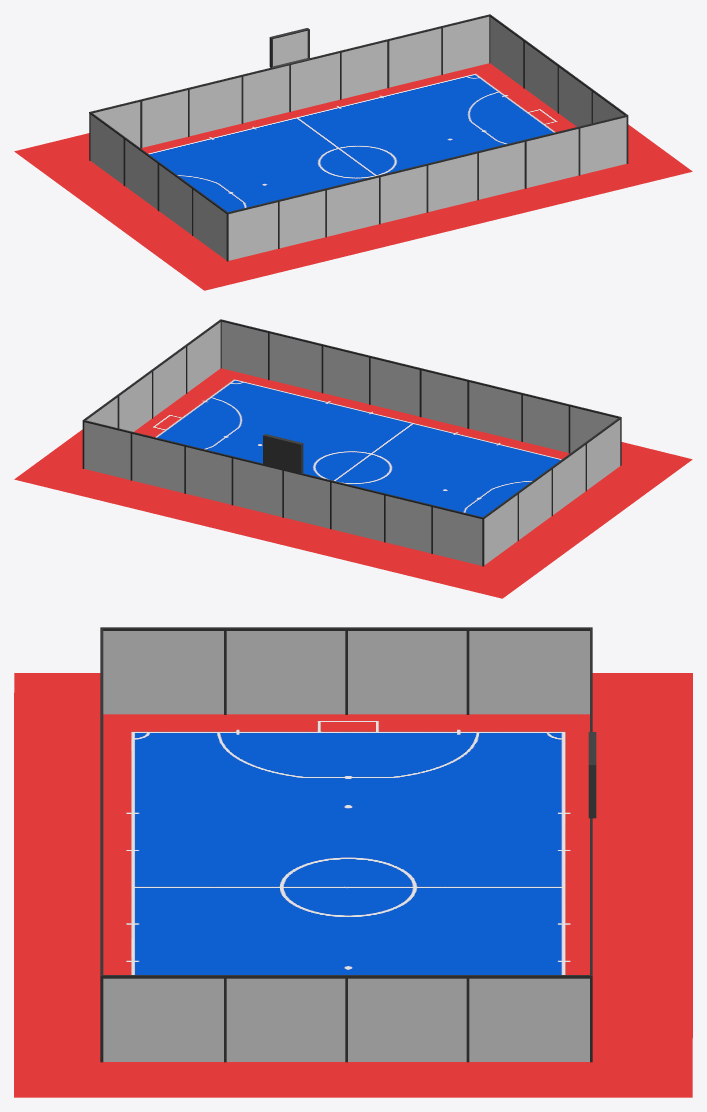
Rendered from Court.fbx.
3 renders of one model, top to bottom at view 1: azimuth 30°, elevation 25°; view 2: azimuth 150°, elevation 25°; view 3: azimuth 270°, elevation 25°, orthographic. The views are drawn at different scales.
Visible parts, largest first — view 1: Court, Fence, Fence_Pole, Scoreboard; view 2: Court, Fence, Fence_Pole, Scoreboard; view 3: Court, Fence, Fence_Pole, Scoreboard.
Part boxes in pixels (x1,y1,x2,y2): Court: (14, 63, 692, 290); Fence: (90, 16, 626, 260); Fence_Pole: (89, 14, 628, 261); Scoreboard: (269, 28, 309, 68); Court: (14, 368, 692, 598); Fence: (84, 322, 620, 565); Fence_Pole: (82, 319, 621, 566); Scoreboard: (263, 434, 303, 474); Court: (14, 673, 692, 1097); Fence: (103, 631, 589, 1061); Fence_Pole: (100, 627, 592, 1062); Scoreboard: (588, 732, 596, 818).
Bounding box in the file's own units: 3467 × 5133 × 787.
